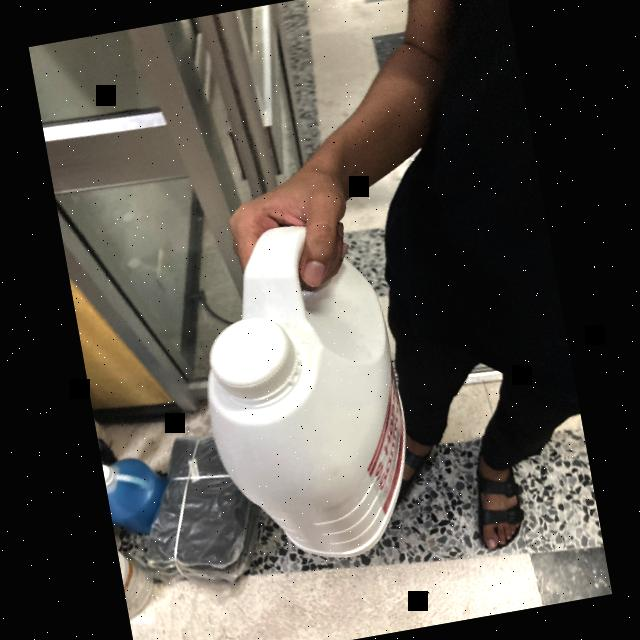chemical_plastic_gallon: (180, 208, 432, 590)
